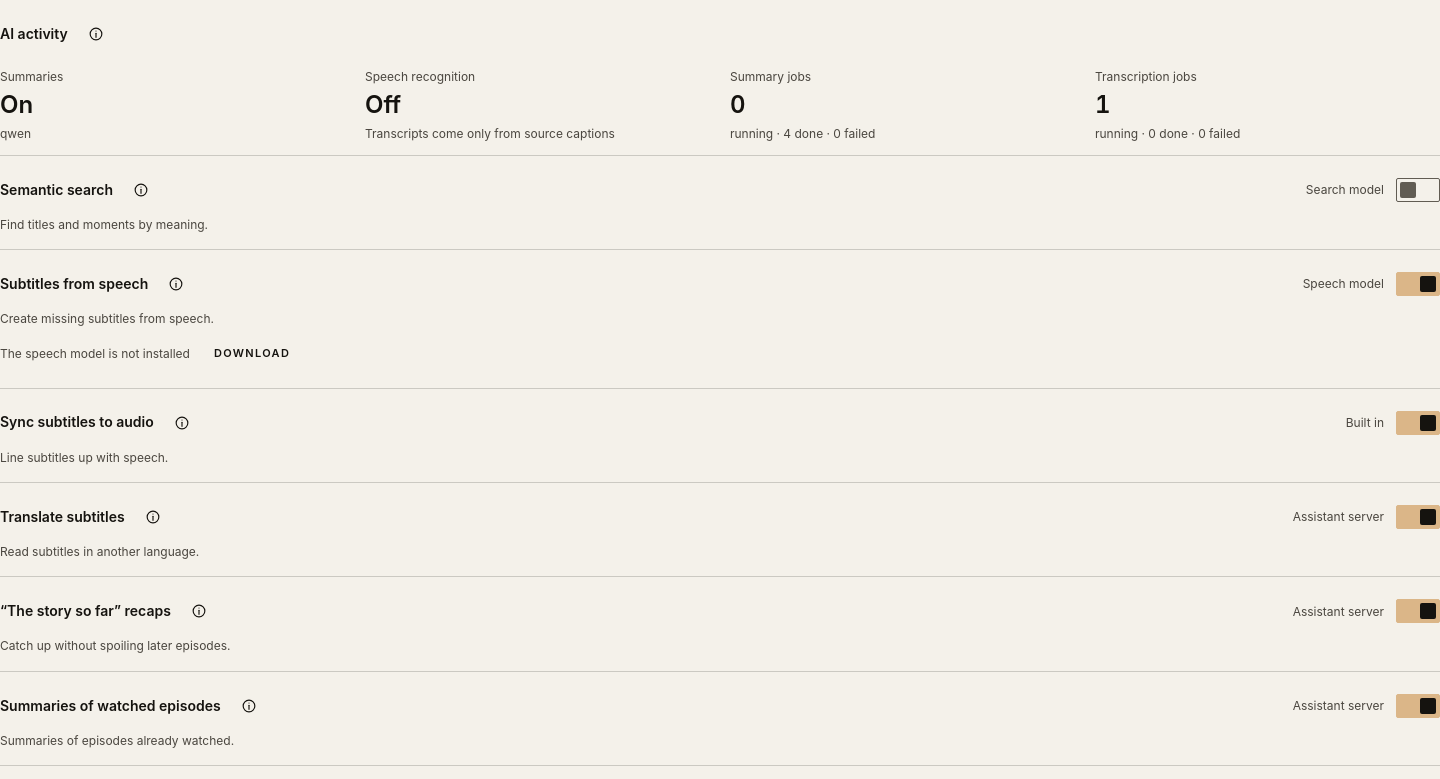
Test: enabling a feature that needs something missing › offers Download and turn on; Cancel returns the switch to off and focus to it
The width and height of the screenshot is (1440, 779).
Click the switch labelled "Semantic search": point(1418, 190) [1396,178,1439,202]
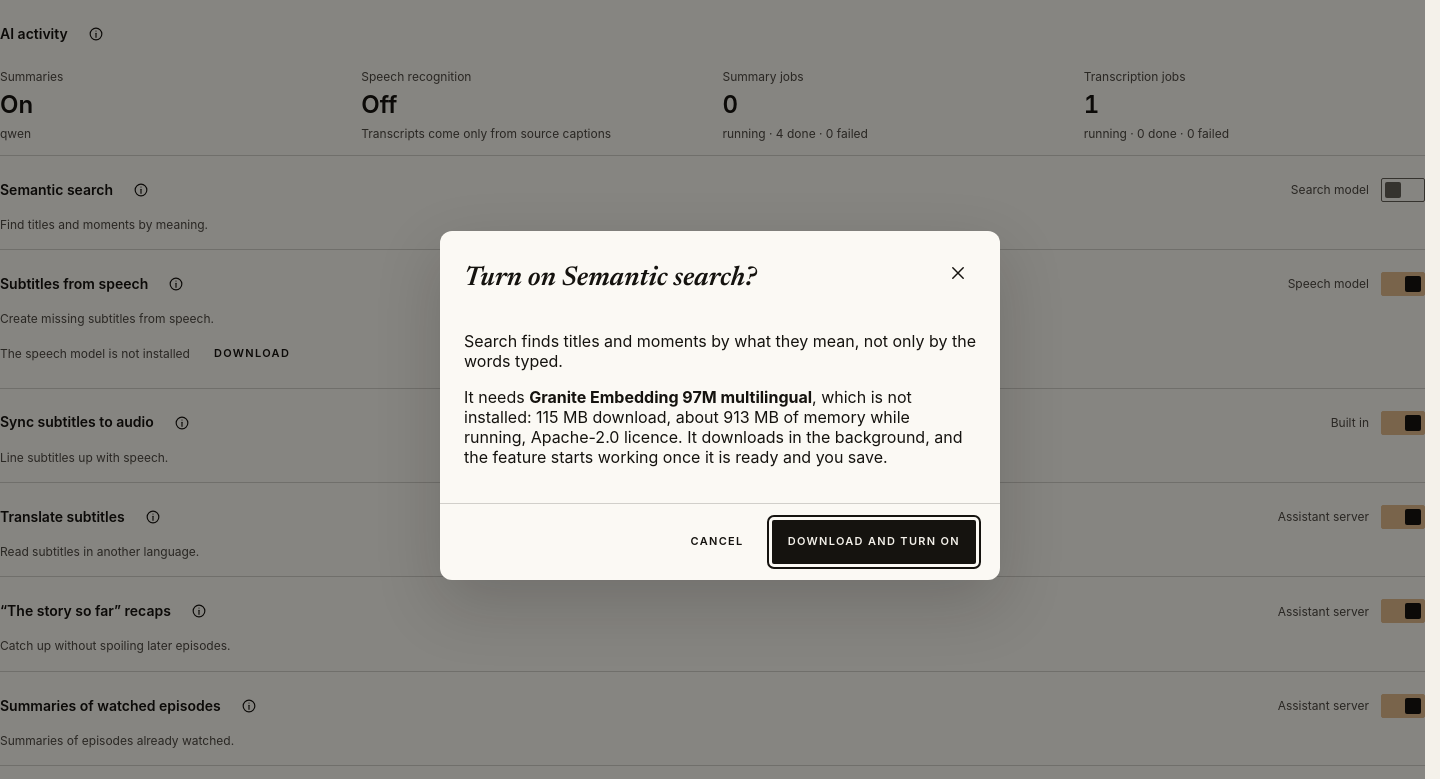
Expected: the dialog "Turn on Semantic search?" shows "Granite Embedding 97M multilingual", [529,386,812,406]
Expected: the dialog "Turn on Semantic search?" shows "115 MB download, about 913 MB of memory while running, Apache-2.0 licence.", [464,406,910,446]
Click the button "Cancel": point(717, 542) [674,520,760,564]
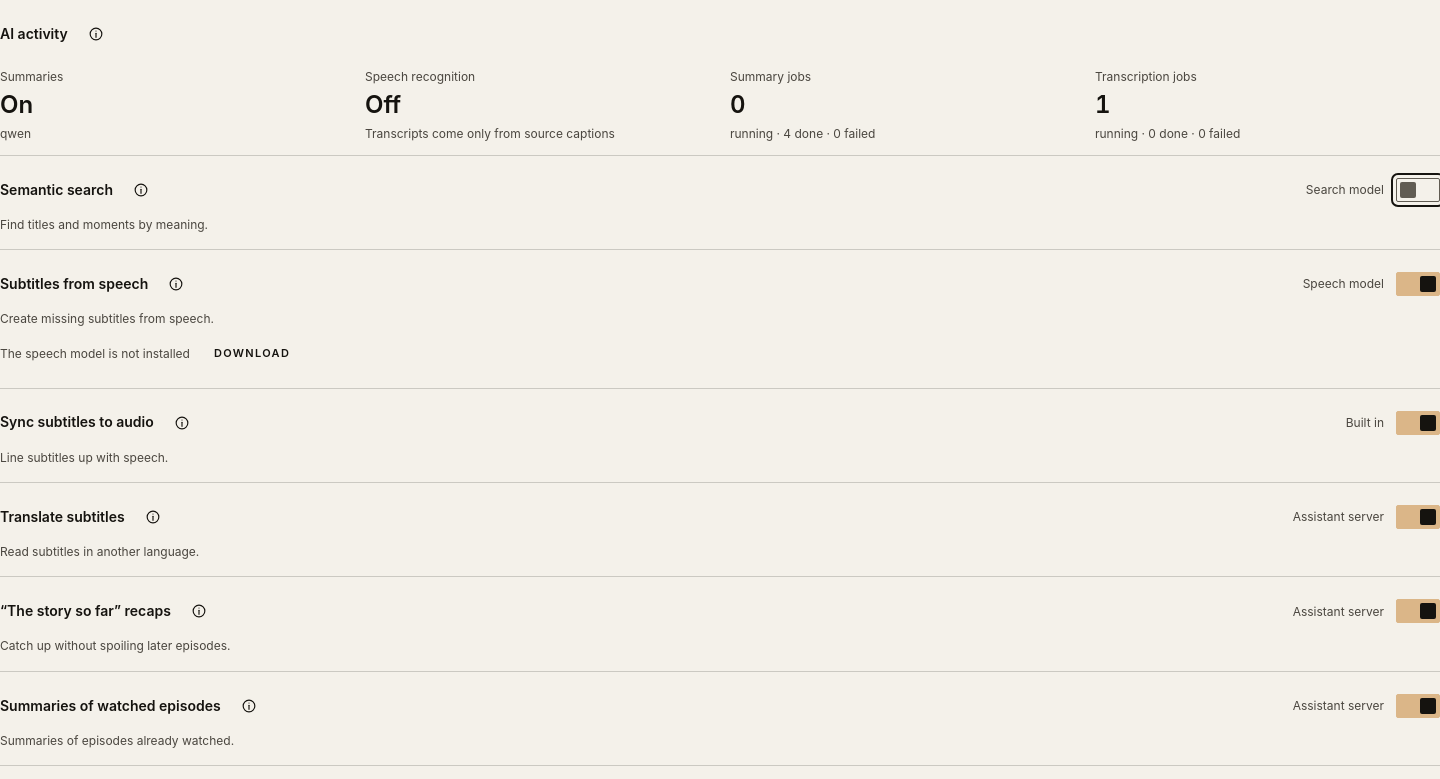
Expected: the switch labelled "Semantic search" is not checked, [1396,178,1439,202]
Expected: the dialog is gone
